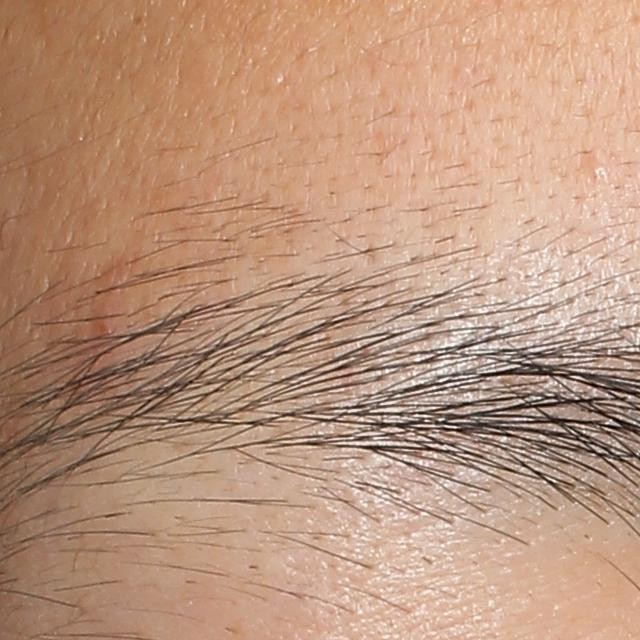comedo: (576, 154, 613, 186)
